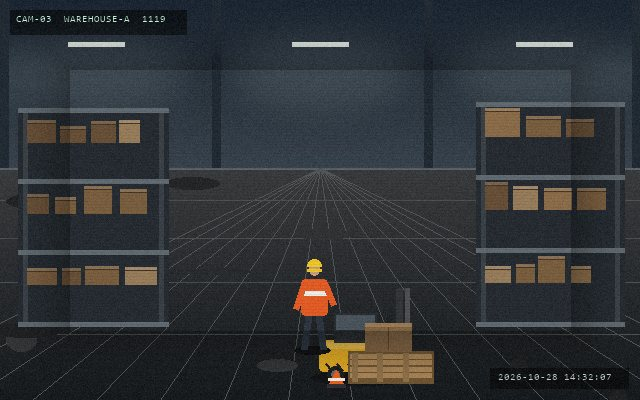cone: (326, 368, 346, 390)
forklift: (315, 286, 435, 385)
pallet: (346, 349, 435, 385)
person: (293, 257, 335, 353)
shelf: (476, 102, 624, 322), (18, 108, 168, 322)
